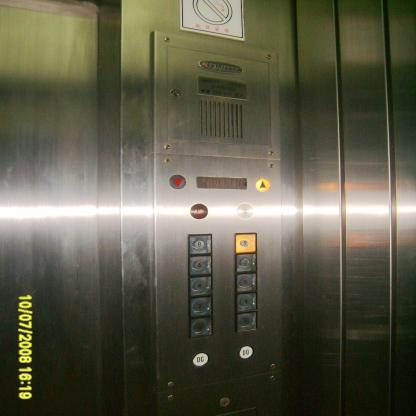0: (188, 315, 214, 338)
1: (234, 311, 257, 332)
2: (188, 296, 212, 318)
3: (234, 292, 258, 313)
4: (187, 275, 213, 298)
5: (234, 272, 258, 293)
6: (187, 255, 213, 277)
7: (234, 252, 258, 274)
8: (187, 233, 212, 256)
9: (234, 232, 257, 254)
DC: (192, 352, 210, 367)
DO: (238, 345, 254, 359)
down: (169, 174, 187, 190)
empty: (236, 203, 254, 219)
keyhole: (219, 397, 230, 406)
text: (190, 203, 208, 219)
up: (254, 177, 270, 192)
